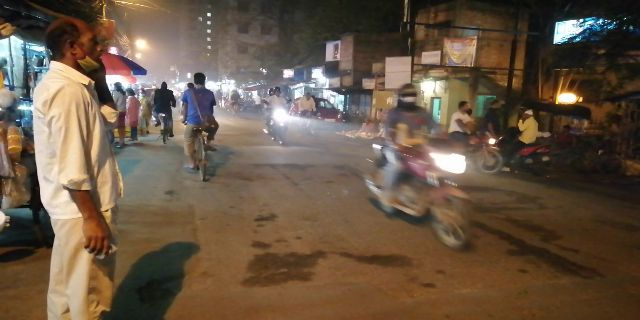Motorbike: (362, 80, 474, 256)
